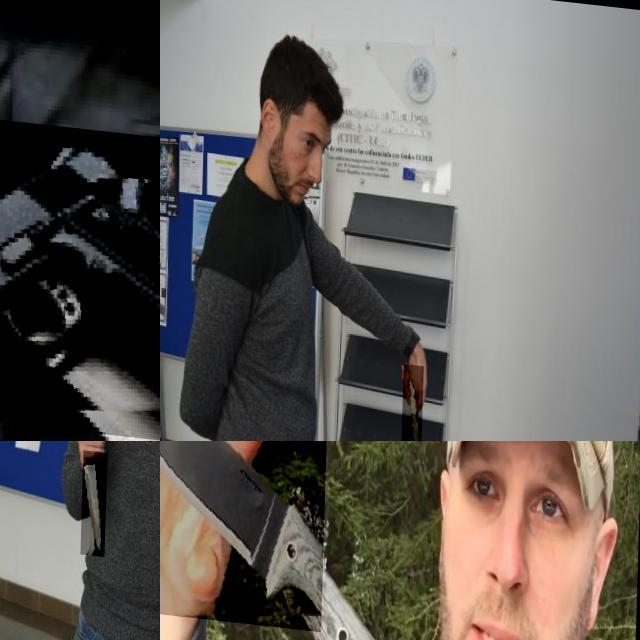-: (160, 441, 330, 624), (83, 444, 110, 550), (404, 356, 426, 441)
gun-knife-thesis - v11 Yolov5 augmented: (0, 89, 160, 441)
